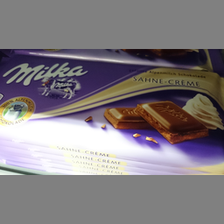chocolate: (1, 53, 224, 169)
